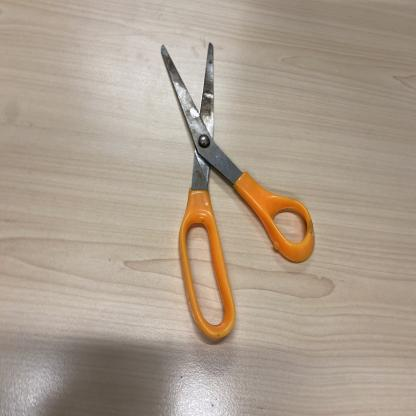scissors: (160, 41, 317, 341)
